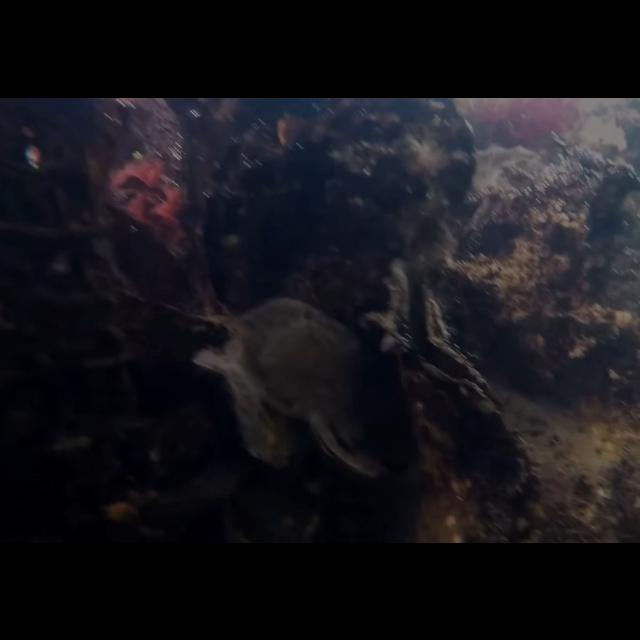Oyster-Closed: (233, 298, 397, 477)
Oyster-Open: (373, 256, 505, 430)
